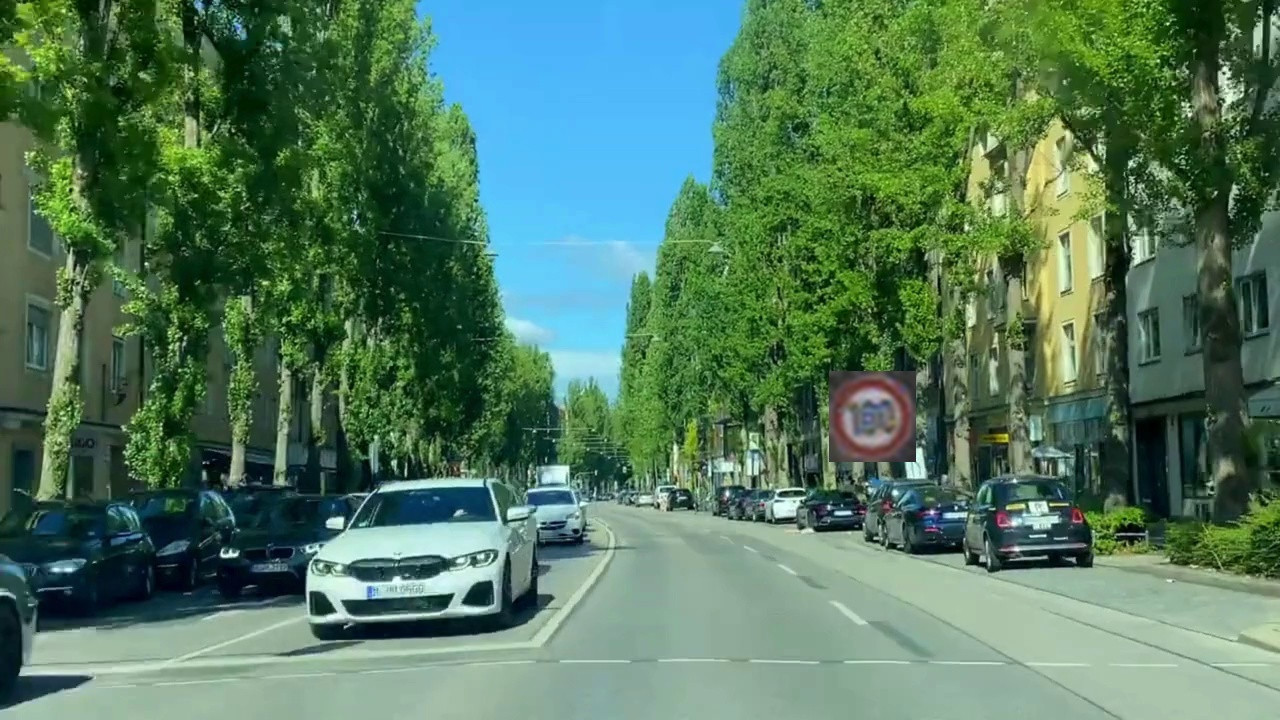Speed 100: (829, 371, 916, 462)
